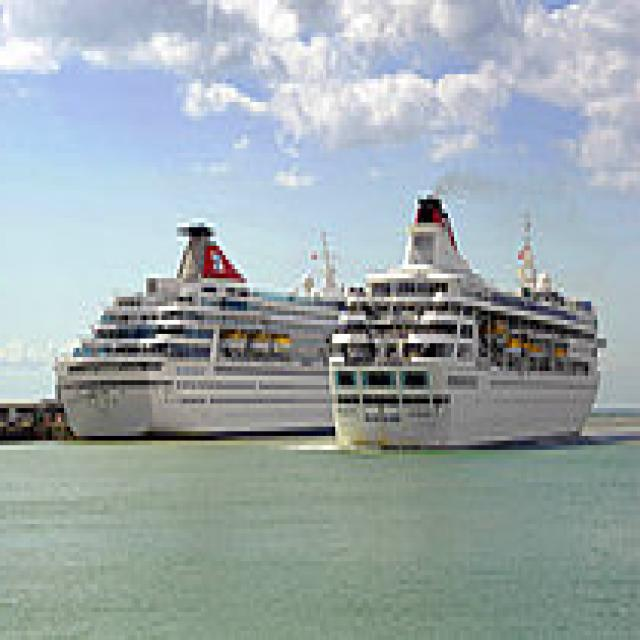Cruise: (329, 190, 616, 450), (55, 218, 363, 441)
